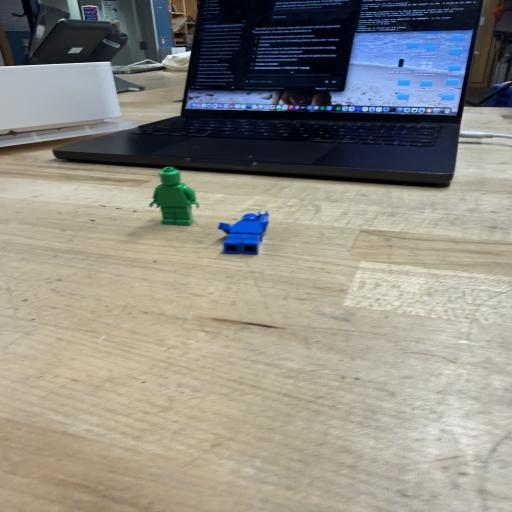blue-minifig: (218, 211, 268, 255)
green-minifig: (150, 167, 198, 225)
